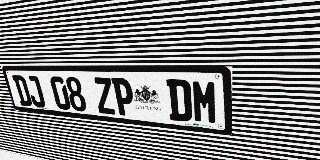0: (49, 76, 71, 110)
8: (64, 77, 87, 112)
D: (166, 79, 192, 122), (12, 75, 33, 107)
J: (25, 76, 46, 108)
M: (191, 80, 218, 125)
P: (111, 78, 136, 117)
Z: (92, 77, 116, 115)
